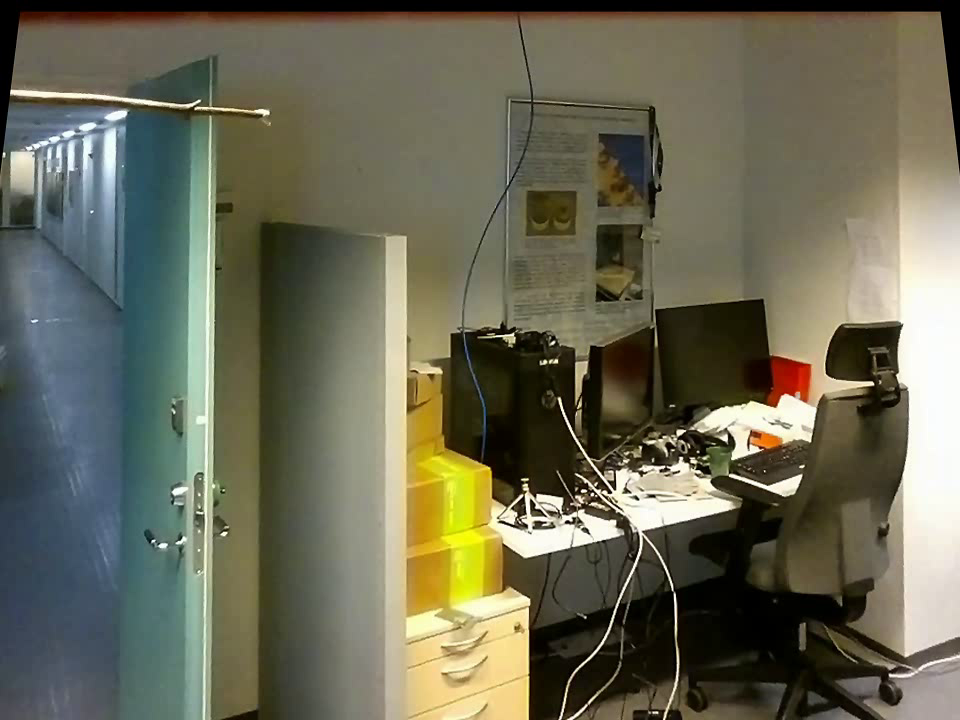branch: (15, 81, 254, 126)
